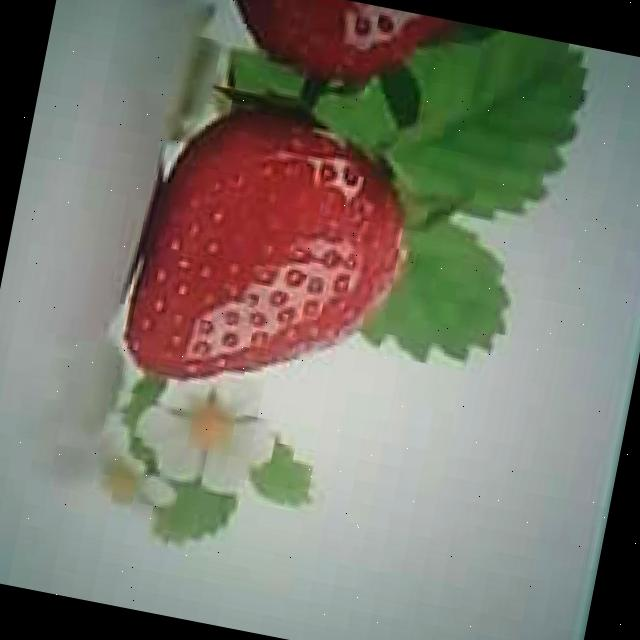strawberry: (116, 86, 432, 418)
